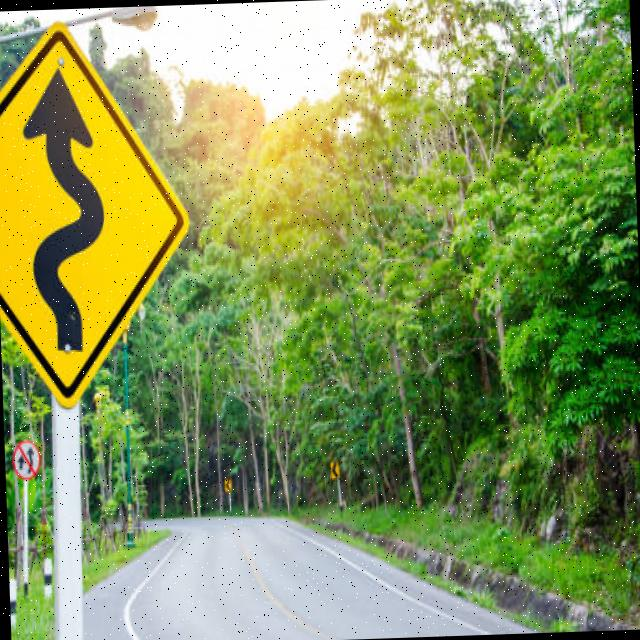left_sharp_curve: (0, 16, 195, 402)
